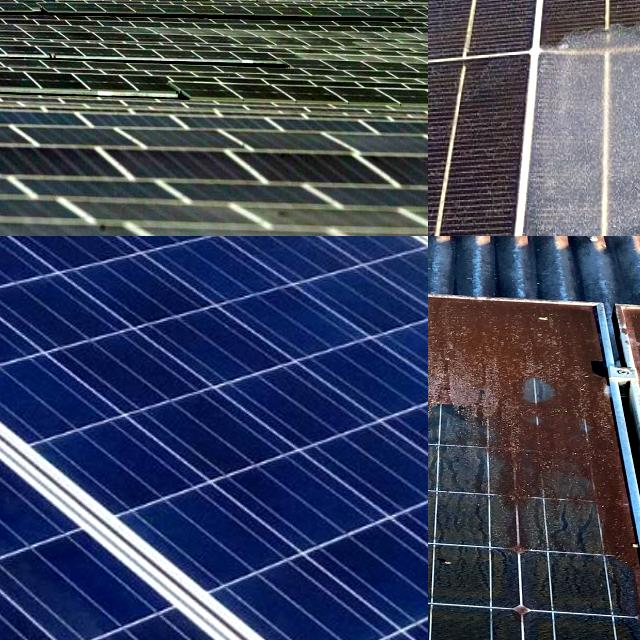crack: (0, 236, 428, 640)
dust: (428, 297, 617, 547), (428, 281, 512, 538), (428, 280, 495, 513), (0, 223, 143, 236)
shadow: (522, 5, 640, 236)
